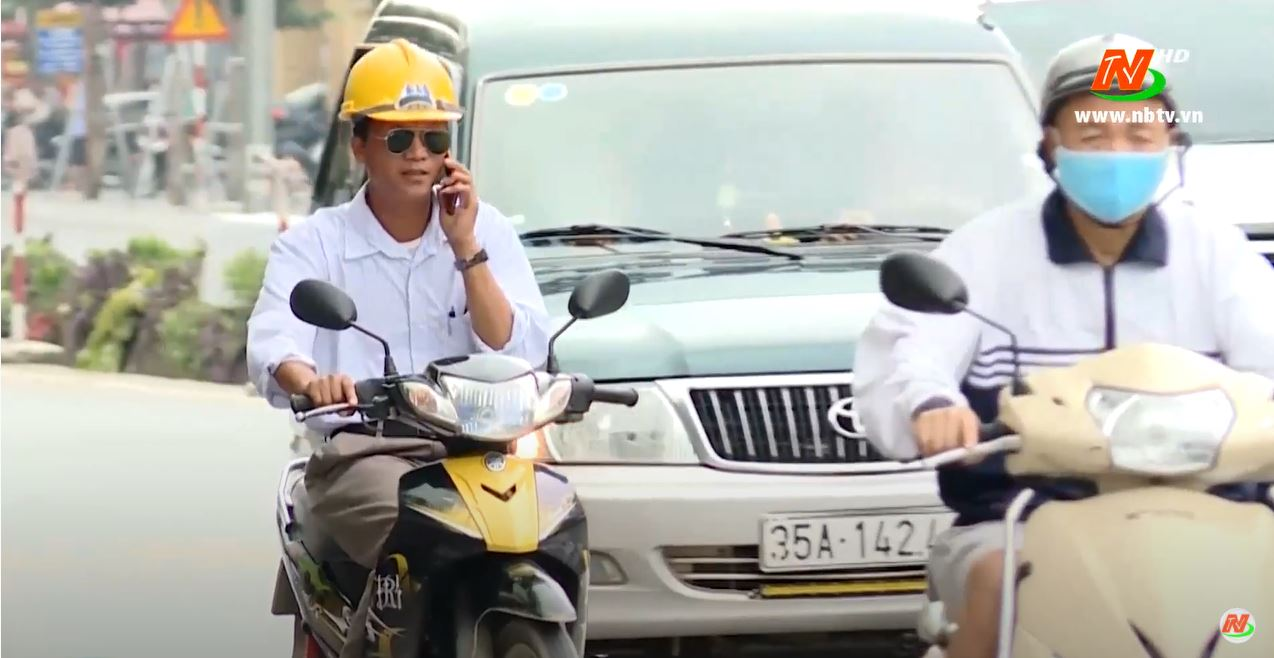dieu khien xe may: (985, 39, 1273, 658), (340, 39, 587, 640)
su dung dien thoai: (342, 41, 482, 254)
